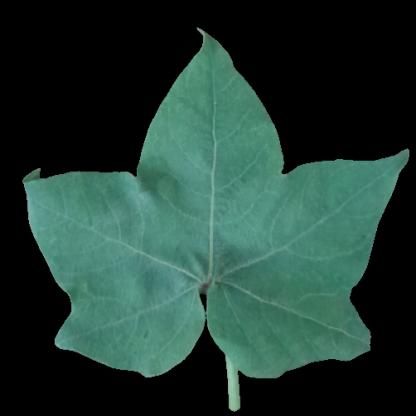healthy: (162, 115, 265, 291), (49, 193, 164, 274), (272, 186, 374, 240)
